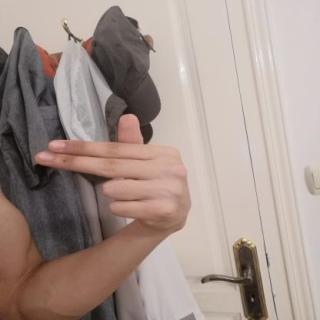GHAYN: (26, 106, 200, 239)
